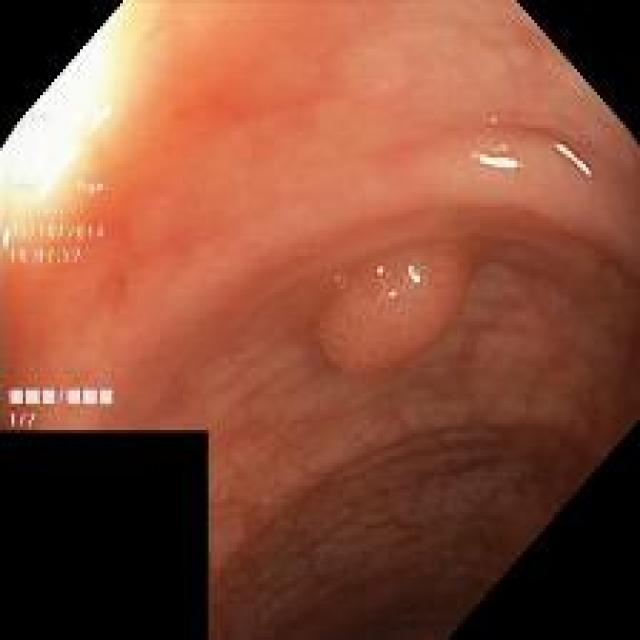Polyps: (318, 247, 472, 374)
